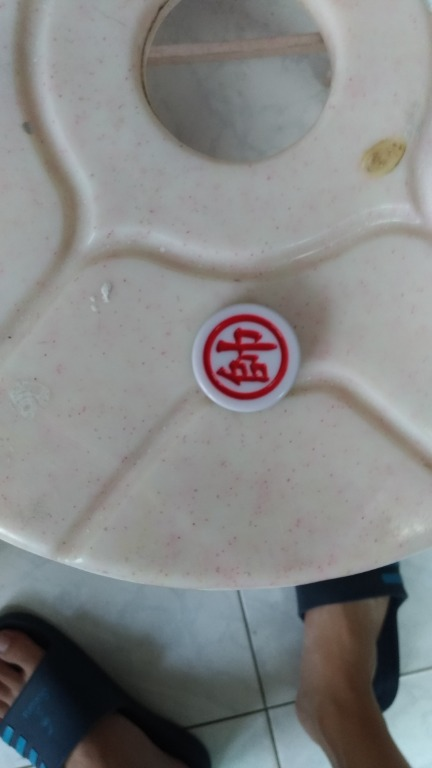r-king: (185, 298, 317, 418)
